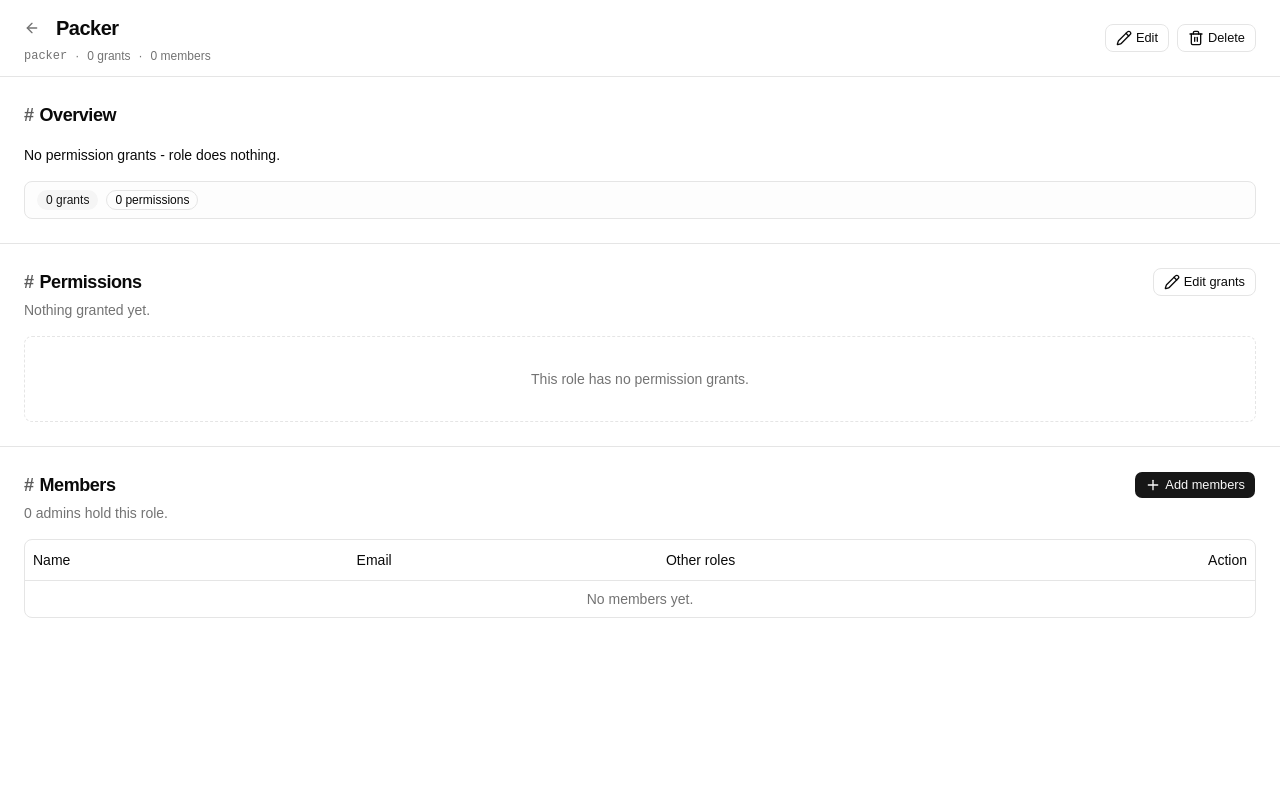
RoleDetail delete › keeps the dialog open and shows a refused delete
Click the button "Delete": (1216, 38) 1177,24 -> 1256,52
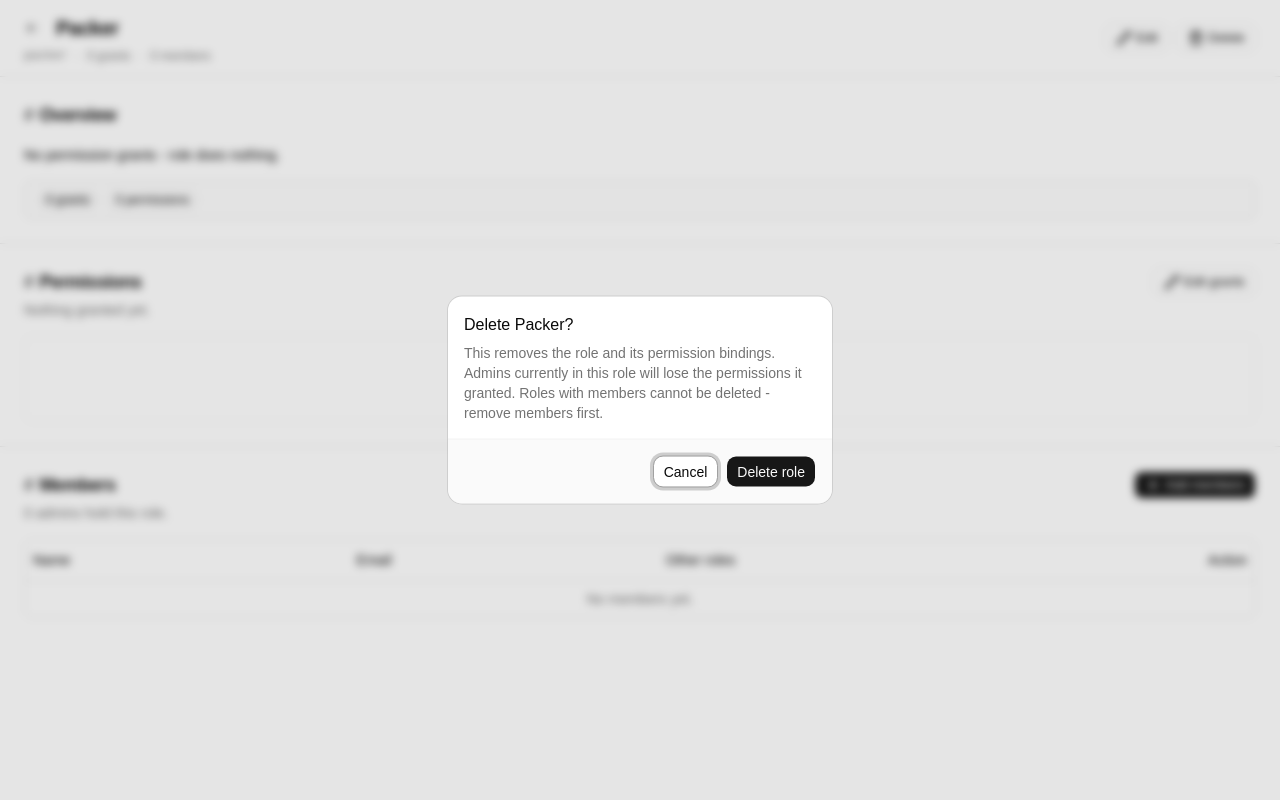
Click the button "Delete role": (771, 472) 726,456 -> 816,488
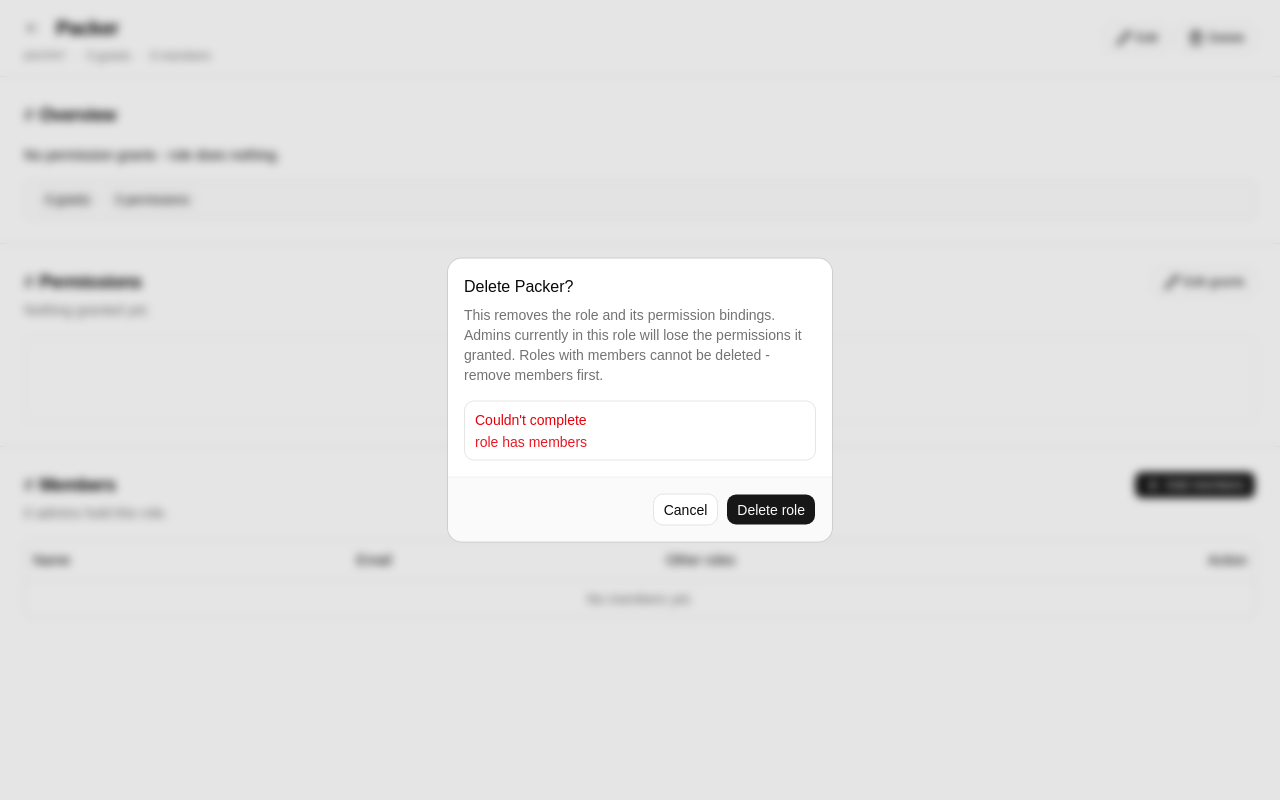
Expected: the text "role has members" is shown, 475,434 -> 587,450
